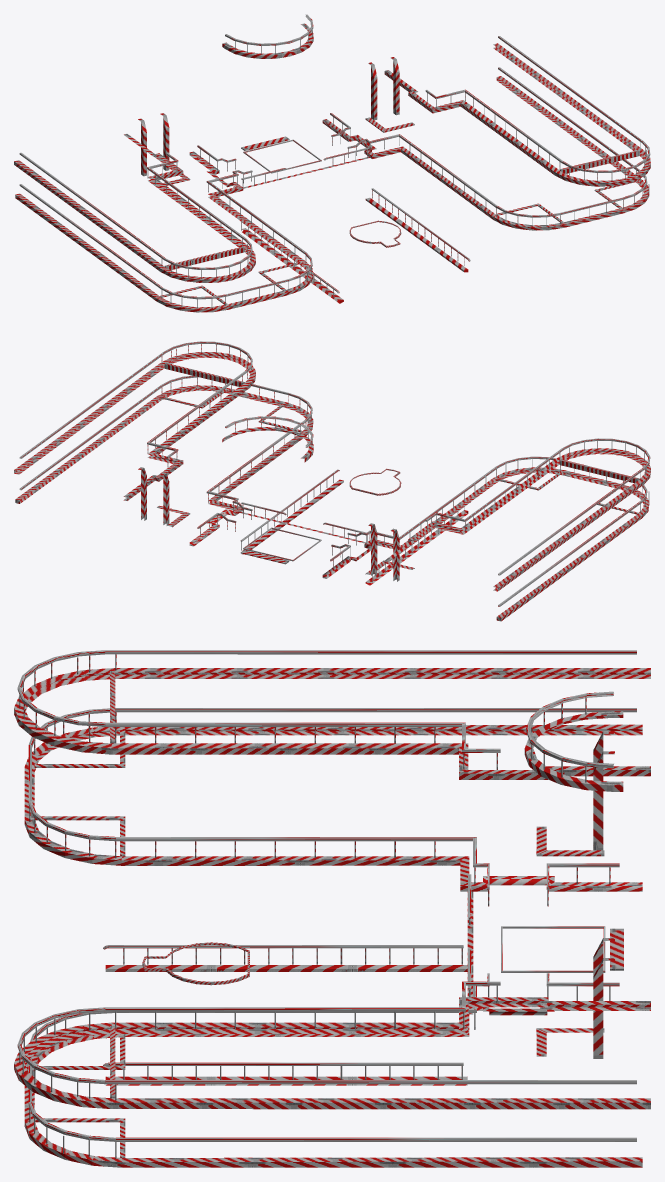
File: floor_cross.fbx
The picture shows the model from 3 angles, top to bottom: view 1: azimuth 30°, elevation 25°; view 2: azimuth 150°, elevation 25°; view 3: azimuth 270°, elevation 25°; orthographic projection. The views are drawn at different scales.
Parts seen in each view (by area): view 1: cross1; view 2: cross1; view 3: cross1.
Boxes of the visible parts, <box> form: cross1: <box>14,14,650,312</box>; cross1: <box>14,341,650,621</box>; cross1: <box>14,650,650,1167</box>.
Bounding box in the file's own units: 854 × 273 × 527.
1 material, 1 textured.
